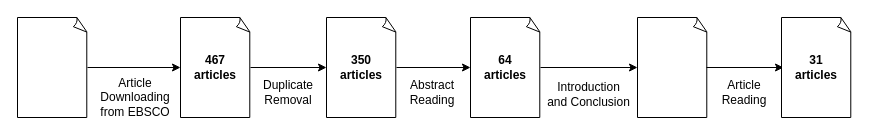
Image size: 869x136. Some labels were removed from this diagram. Here are the shapes that lost their labels. From the top down, the centre of each, then its label:
At (x=52, y=67): "646 articles".
At (x=672, y=67): "44 articles".
